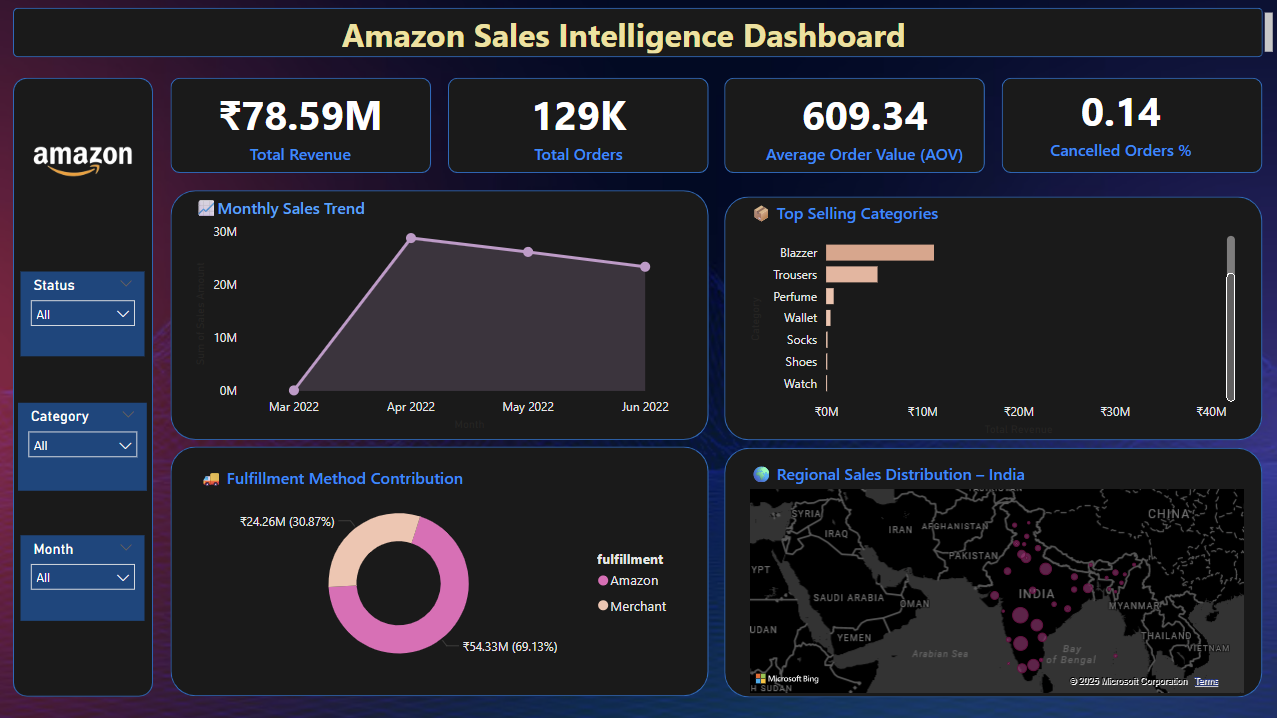

Layout of this report page (visuals, bound fields, positions):
{"tool":"powerbi","page":{"name":"Page 1","canvas":[1280,720],"ordinal":0},"visuals":[{"type":"shape","box":[14.5,8.4,1249.9,49.5],"z":0},{"type":"textbox","box":[339,8.4,941,50.7],"z":1000},{"type":"shape","box":[172.5,78.4,260.6,95.3],"z":2000},{"type":"shape","box":[14.5,78.4,139.9,618.9],"z":3000},{"type":"card","fields":{"Values":["amazon_sales1 amazon_sales1.Total Revenue"]},"box":[197.9,22.9,209.9,207.5],"z":4000},{"type":"shape","box":[449.6,78.4,260.6,95.3],"z":5000},{"type":"card","fields":{"Values":["amazon_sales1 amazon_sales1.Total Orders"]},"box":[460.9,22.9,238.9,207.5],"z":6000},{"type":"shape","box":[726.7,78.4,260.6,95.3],"z":7000},{"type":"card","fields":{"Values":["amazon_sales1 amazon_sales1.Average Order Value (AOV)"]},"box":[748,22.9,238.9,207.5],"z":8000},{"type":"shape","box":[1003.8,78.4,260.6,95.3],"z":9000},{"type":"card","fields":{"Values":["amazon_sales1 amazon_sales1.Cancelled Orders %"]},"box":[1003.8,22.9,238.9,199.1],"z":10000},{"type":"shape","box":[172.5,191.8,538.1,249.7],"z":11000},{"type":"lineChart","title":"📈Monthly Sales Trend ","fields":{"Category":["amazon_sales1 amazon_sales1.MONTH"],"Y":["Sum(amazon_sales1 amazon_sales1.Sales Amount)"]},"box":[193,197.9,506.7,238.9],"z":12000},{"type":"shape","box":[726.3,197.9,538.1,243.7],"z":13000},{"type":"clusteredBarChart","title":"📦 Top Selling Categories","fields":{"Y":["amazon_sales1 amazon_sales1.Total Revenue"],"Category":["amazon_sales1 amazon_sales1.category"]},"box":[748,202.7,494.6,238.9],"z":14000},{"type":"shape","box":[172.5,447.6,538.1,249.7],"z":15000},{"type":"donutChart","title":"🚚 Fulfillment Method Contribution","fields":{"Category":["amazon_sales1 amazon_sales1.fulfillment"],"Y":["amazon_sales1 amazon_sales1.Total Revenue"]},"box":[197.9,466.9,488.6,212.3],"z":16000},{"type":"shape","box":[726.3,448.8,538.1,249.7],"z":17000},{"type":"map","title":"🌍 Regional Sales Distribution – India","fields":{"Size":["amazon_sales1 amazon_sales1.Total Revenue"],"Category":["amazon_sales1 amazon_sales1.ship_state","amazon_sales1 amazon_sales1.ship_country","amazon_sales1 amazon_sales1.ship_city"]},"box":[748,463.3,503.1,235.3],"z":18000},{"type":"slicer","fields":{"Values":["amazon_sales1 amazon_sales1.Category"]},"box":[20.5,404.2,129.1,88.1],"z":19000},{"type":"slicer","fields":{"Values":["amazon_sales1 amazon_sales1.MONTH"]},"box":[22.9,536.9,124.3,85.7],"z":19001},{"type":"slicer","fields":{"Values":["amazon_sales1 amazon_sales1.STATUS_"]},"box":[22.9,272.7,124.3,84.5],"z":19002},{"type":"image","box":[7.2,22.9,154.4,282.3],"z":19003}]}

Visuals, with their boxes in screenshot pixels (x1, y1, x2, y2), scaled from the page's 1280x720 canvas onto the 1277x718 screenshot:
shape: crop(14, 8, 1261, 58)
textbox: crop(338, 8, 1276, 59)
shape: crop(172, 78, 432, 173)
shape: crop(14, 78, 154, 695)
card - amazon_sales1 amazon_sales1.Total Revenue: crop(197, 23, 407, 230)
shape: crop(449, 78, 709, 173)
card - amazon_sales1 amazon_sales1.Total Orders: crop(460, 23, 698, 230)
shape: crop(725, 78, 985, 173)
card - amazon_sales1 amazon_sales1.Average Order Value (AOV): crop(746, 23, 985, 230)
shape: crop(1001, 78, 1261, 173)
card - amazon_sales1 amazon_sales1.Cancelled Orders %: crop(1001, 23, 1240, 221)
shape: crop(172, 191, 709, 440)
"📈Monthly Sales Trend " lineChart: crop(193, 197, 698, 436)
shape: crop(725, 197, 1261, 440)
"📦 Top Selling Categories" clusteredBarChart: crop(746, 202, 1240, 440)
shape: crop(172, 446, 709, 695)
"🚚 Fulfillment Method Contribution" donutChart: crop(197, 466, 685, 677)
shape: crop(725, 448, 1261, 697)
"🌍 Regional Sales Distribution – India" map: crop(746, 462, 1248, 697)
slicer - amazon_sales1 amazon_sales1.Category: crop(20, 403, 149, 491)
slicer - amazon_sales1 amazon_sales1.MONTH: crop(23, 535, 147, 621)
slicer - amazon_sales1 amazon_sales1.STATUS_: crop(23, 272, 147, 356)
image: crop(7, 23, 161, 304)
